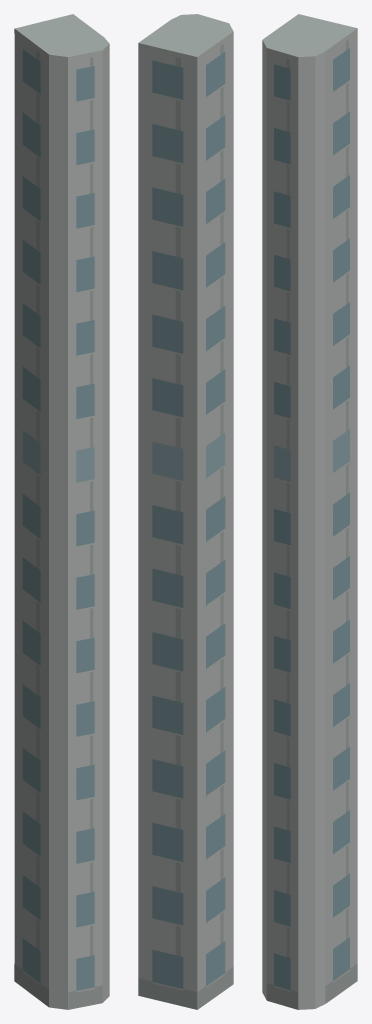
File: survey-upis-32639711.glb
3 renders of one model, left to right at view 1: azimuth 30°, elevation 25°; view 2: azimuth 150°, elevation 25°; view 3: azimuth 330°, elevation 25°, orthographic.
Parts seen in each view (by area): view 1: survey-upis-32639711.tmp; view 2: survey-upis-32639711.tmp; view 3: survey-upis-32639711.tmp.
Boxes of the visible parts, x1=… form: survey-upis-32639711.tmp: x1=14, y1=14, x2=109, y2=1009; survey-upis-32639711.tmp: x1=138, y1=14, x2=233, y2=1009; survey-upis-32639711.tmp: x1=262, y1=14, x2=357, y2=1009.
Size of the model in its own units: 3.01 by 45.75 by 3.89.
